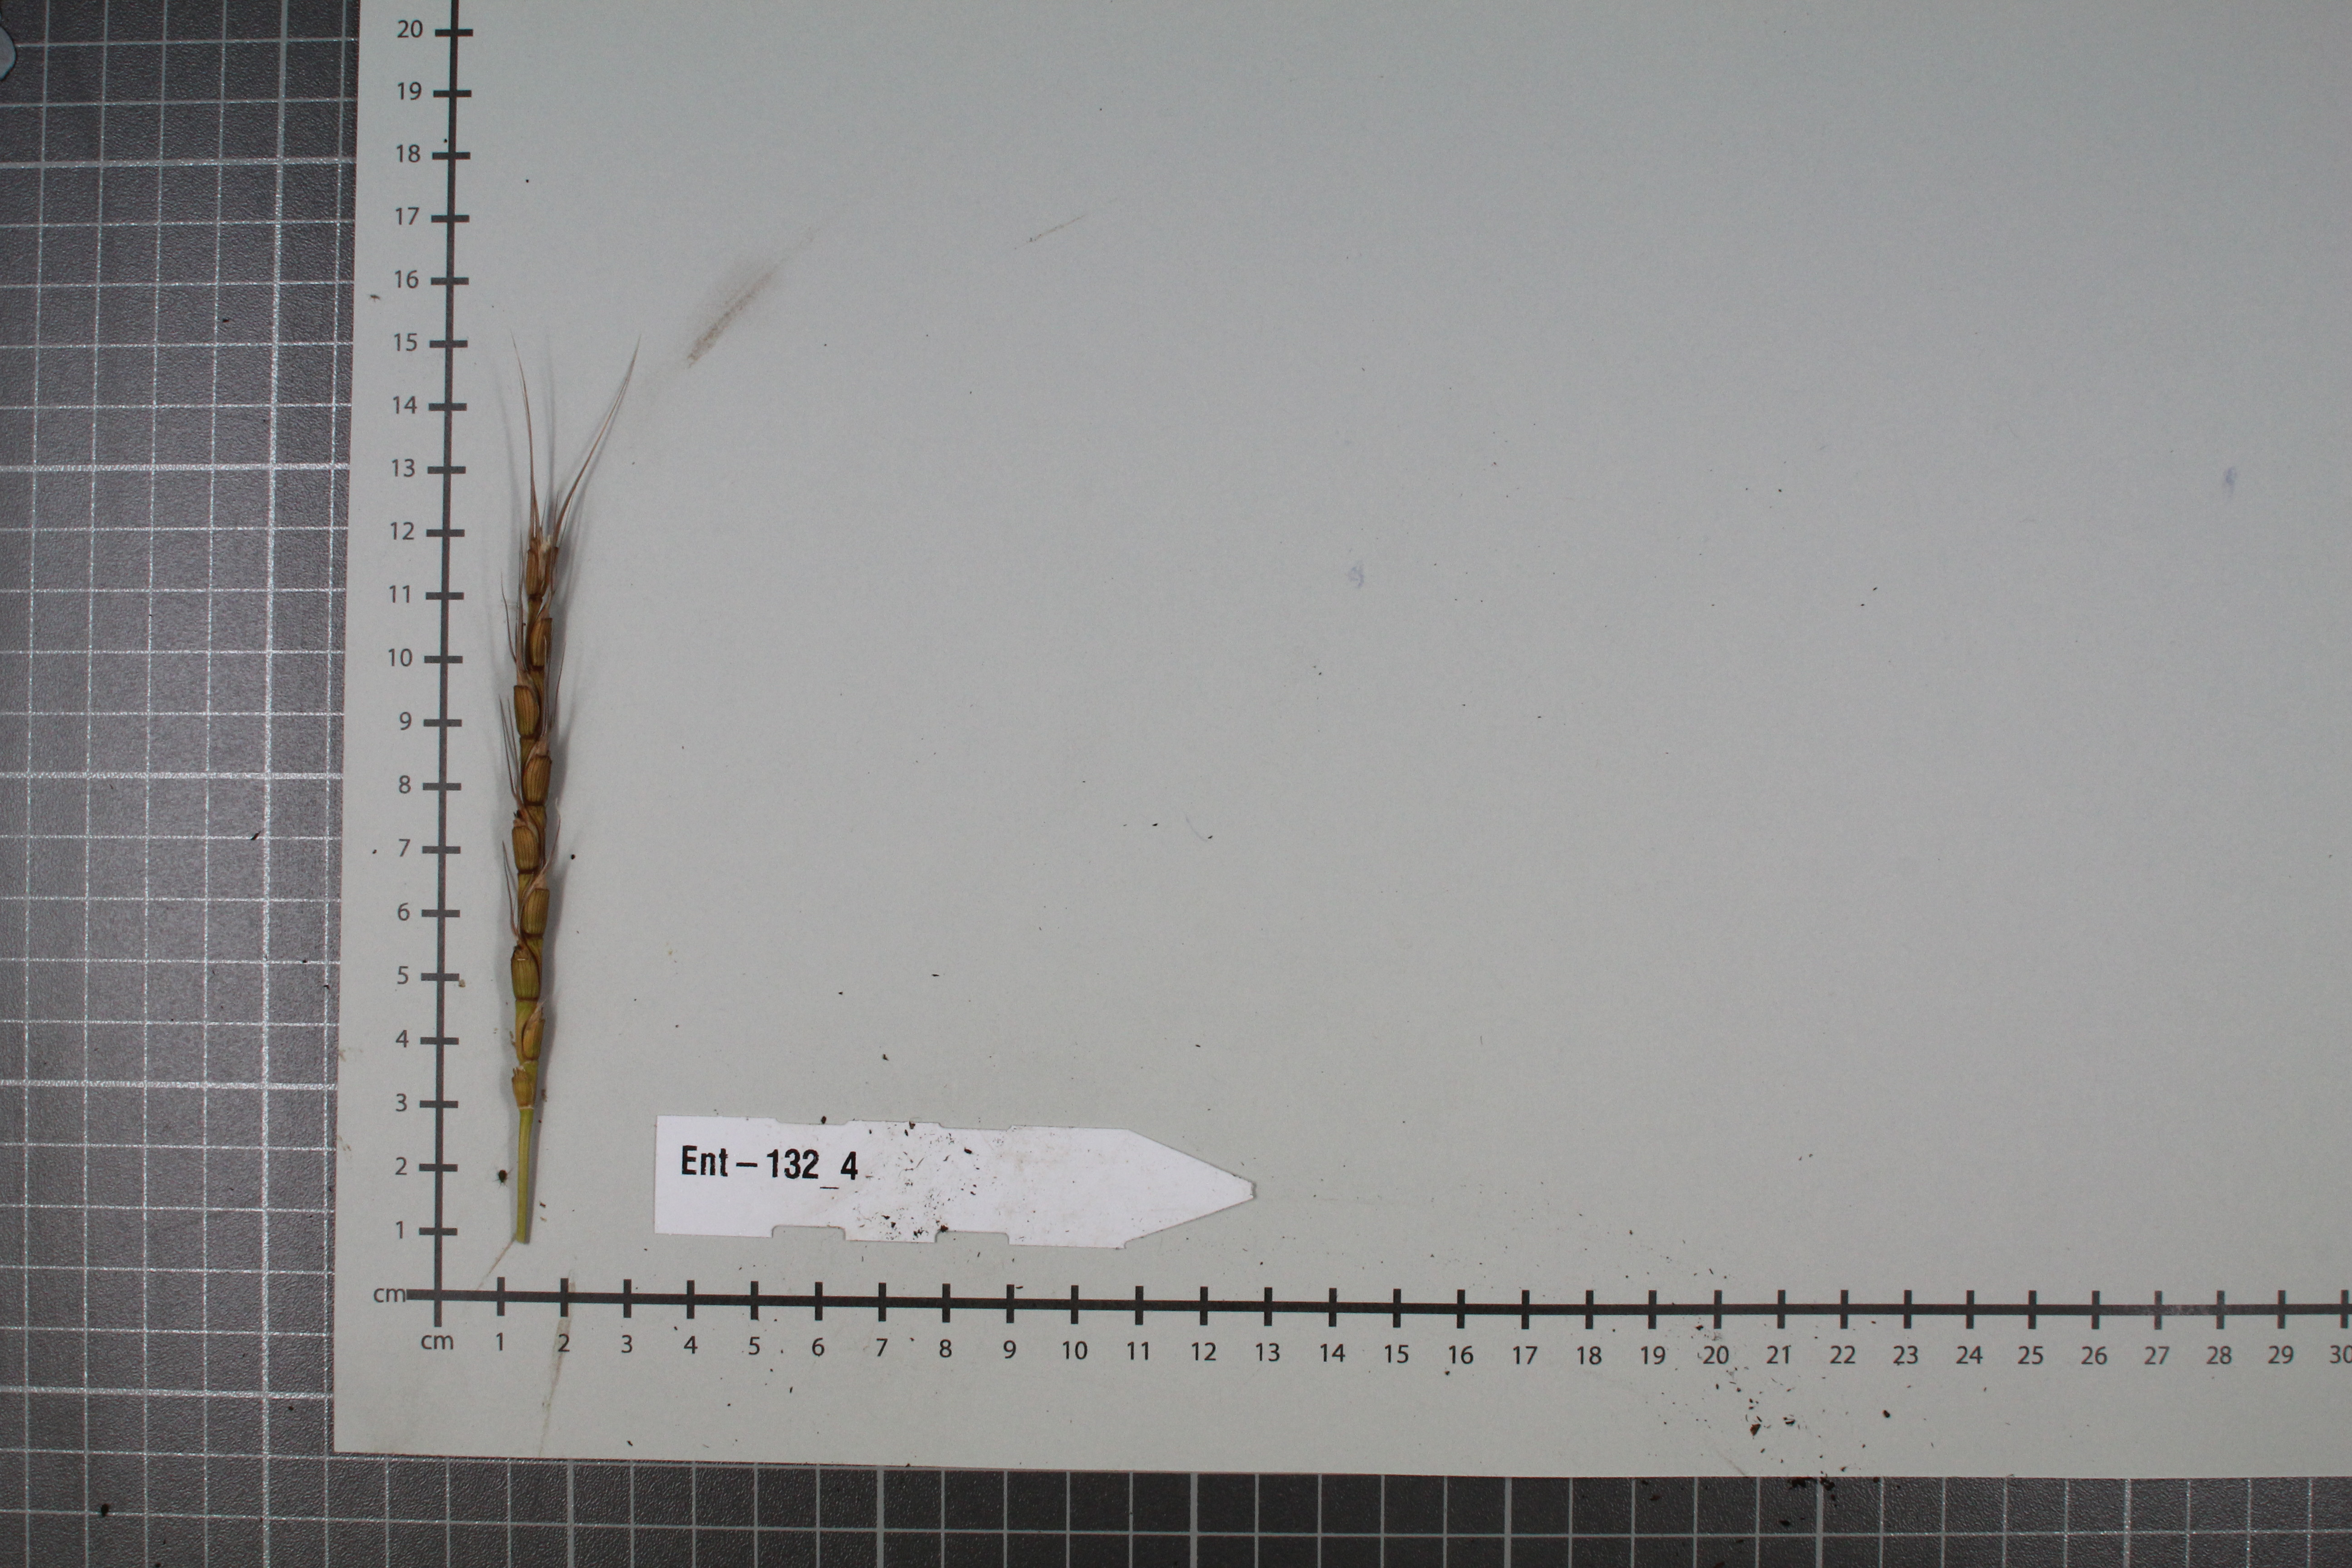oat: (481, 355, 587, 1259)
tag: (645, 1101, 1261, 1248)
